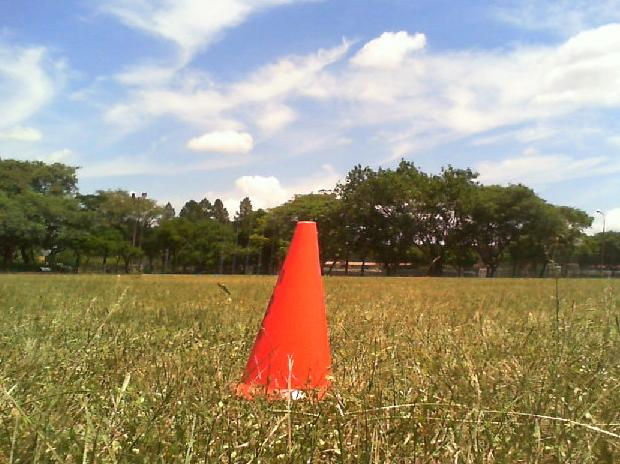0 cone: (229, 221, 331, 401)
